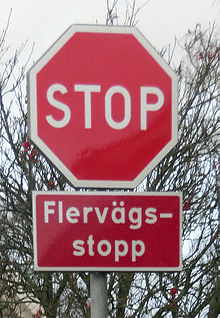stopsign: (29, 25, 177, 190)
